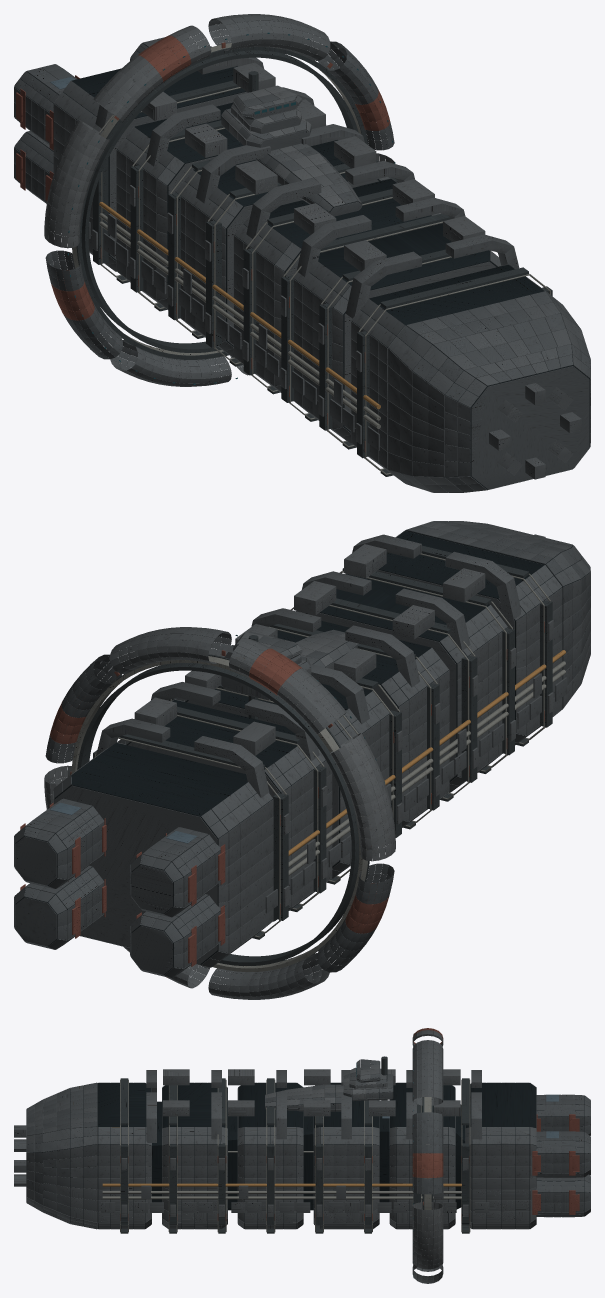
File: model-outline.glb
3 views of the same model, one above another, from view 1: azimuth 30°, elevation 25°; view 2: azimuth 150°, elevation 25°; view 3: azimuth 270°, elevation 25° (orthographic). The views are drawn at different scales.
Visible parts, largest first — view 1: armour-1, armour-0, dark-structure, citadel-section, armour-2, rotor:armour-1, machined-alloy, rotor:armour-0, rotor:armour-3, rotor:salvage-red-1, rotor:armour-2, rotor:dark-structure (+5 smaller); view 2: armour-1, armour-0, citadel-section, dark-structure, armour-2, rotor:armour-1, machined-alloy, rotor:armour-0, rotor:armour-3, rotor:armour-2, rotor:salvage-red-1, rotor:machined-alloy (+3 smaller); view 3: armour-1, armour-0, citadel-section, dark-structure, armour-2, machined-alloy, citadel-core, rotor:armour-1, rotor:armour-3, rotor:armour-0, salvage-red-2, service-ochre (+4 smaller).
Part boxes in pixels (box(x1,y1,x2,y2)): armour-1: box(53, 46, 590, 492); armour-0: box(14, 37, 590, 492); dark-structure: box(81, 50, 552, 476); citadel-section: box(54, 47, 544, 451); armour-2: box(92, 62, 485, 444); rotor:armour-1: box(110, 14, 330, 386); machined-alloy: box(99, 87, 550, 474); rotor:armour-0: box(45, 41, 394, 359); rotor:armour-3: box(44, 120, 394, 248); rotor:salvage-red-1: box(51, 35, 390, 320); rotor:armour-2: box(93, 25, 248, 375); rotor:dark-structure: box(76, 47, 367, 359); armour-1: box(53, 521, 590, 967); armour-0: box(14, 521, 590, 978); citadel-section: box(54, 531, 561, 964); dark-structure: box(77, 545, 552, 965); armour-2: box(134, 544, 553, 906); rotor:armour-1: box(109, 627, 329, 999); machined-alloy: box(94, 553, 565, 937); rotor:armour-0: box(45, 654, 394, 972); rotor:armour-3: box(44, 733, 395, 861); rotor:armour-2: box(123, 638, 346, 988); rotor:salvage-red-1: box(50, 648, 388, 977); rotor:machined-alloy: box(71, 656, 367, 971); armour-1: box(14, 1060, 536, 1229); armour-0: box(26, 1059, 590, 1220); citadel-section: box(97, 1083, 536, 1228); dark-structure: box(120, 1056, 469, 1233); armour-2: box(121, 1059, 468, 1216); machined-alloy: box(102, 1079, 470, 1232); citadel-core: box(152, 1101, 465, 1210); rotor:armour-1: box(412, 1040, 443, 1271); rotor:armour-3: box(412, 1202, 443, 1269); rotor:armour-0: box(412, 1112, 443, 1194); salvage-red-2: box(532, 1114, 579, 1214); service-ochre: box(102, 1183, 461, 1186).
Bounding box in the file's own units: 189 × 189 × 426.
13 materials, 12 textured.
